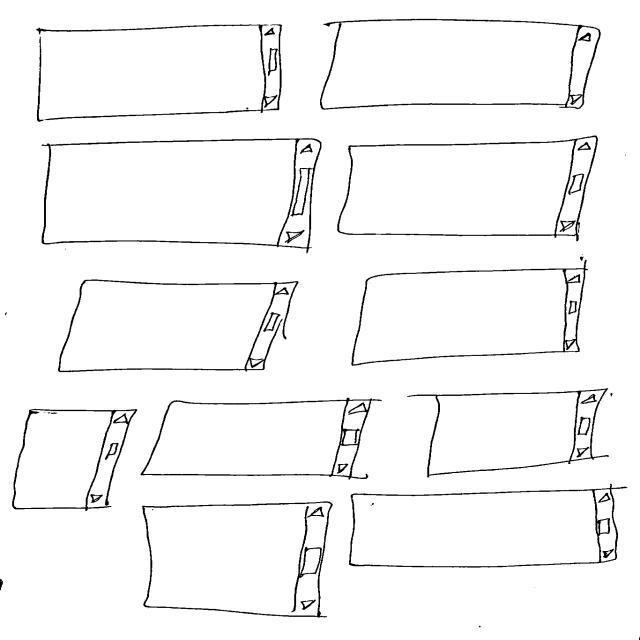textarea: (42, 139, 322, 255), (338, 136, 598, 242), (313, 20, 602, 111), (352, 258, 592, 367), (37, 25, 283, 122), (349, 485, 628, 569), (59, 280, 300, 373), (143, 502, 333, 618), (141, 399, 382, 481), (408, 389, 609, 478), (13, 410, 138, 512)
